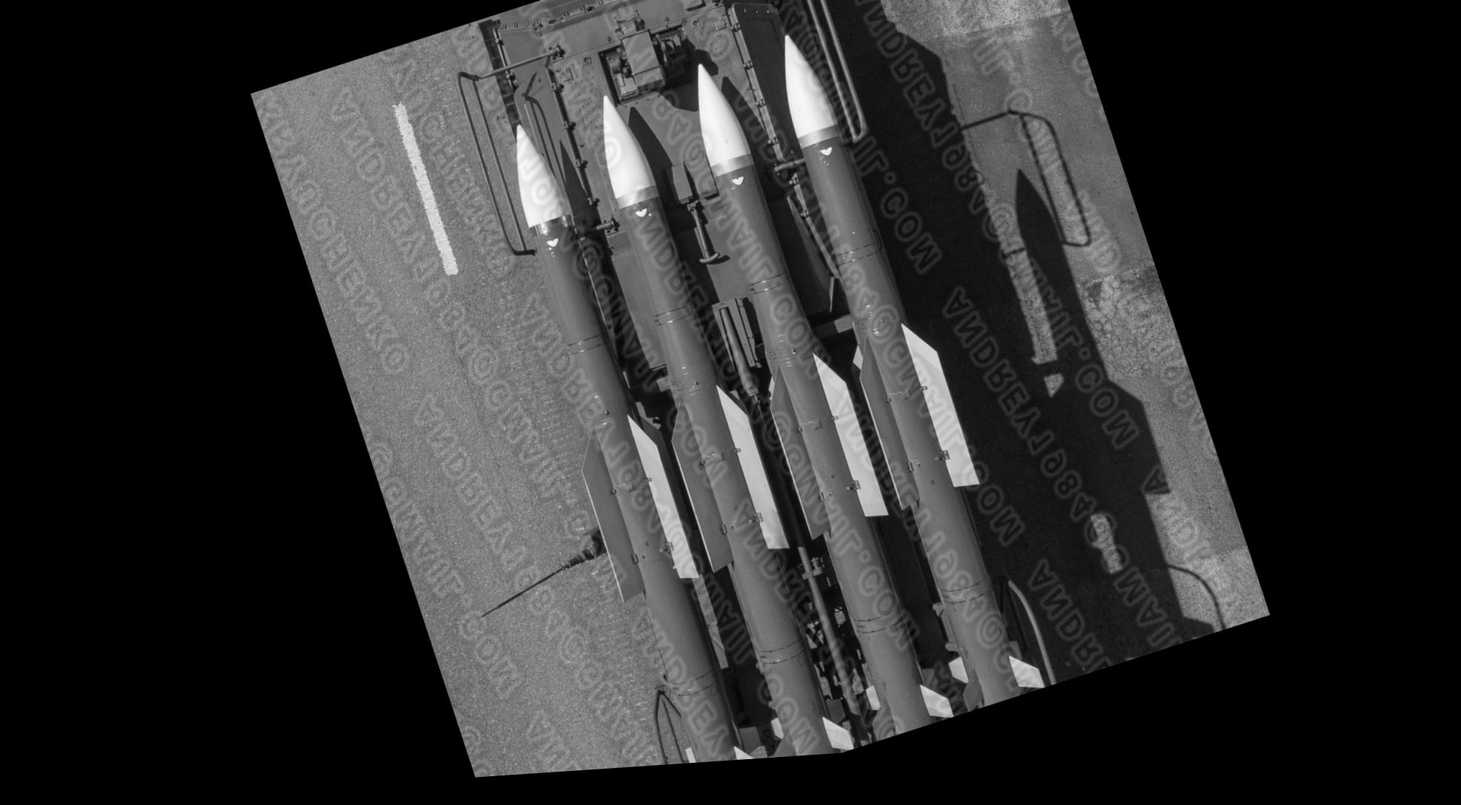armored_car: (428, 0, 1109, 776)
